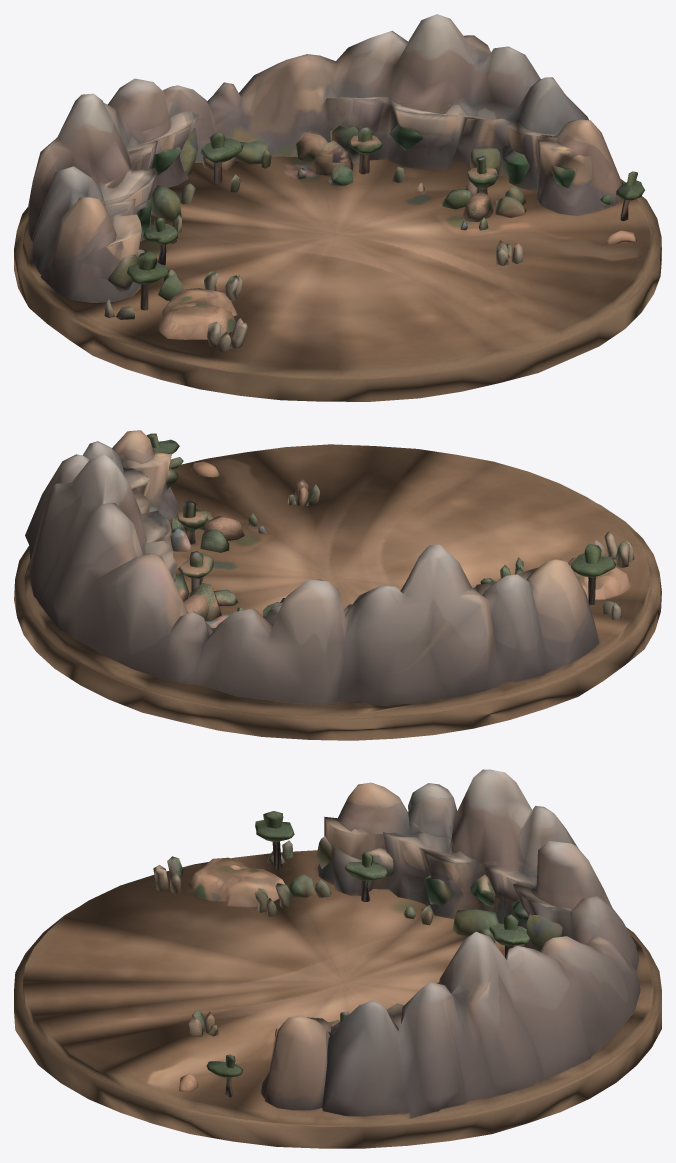
Rendered from diorama25.glb.
The picture shows the model from 3 angles, top to bottom: view 1: azimuth 30°, elevation 25°; view 2: azimuth 150°, elevation 25°; view 3: azimuth 270°, elevation 25°; orthographic projection.
Visible parts, largest first — view 1: mesh_node; view 2: mesh_node; view 3: mesh_node.
Boxes of the visible parts, left/top/right/bottom form: mesh_node: left=14, top=14, right=661, bottom=401; mesh_node: left=14, top=430, right=661, bottom=740; mesh_node: left=14, top=769, right=661, bottom=1148.
Bounding box in the file's own units: 0.9078 × 0.25 × 0.9078.
Materials: 1 (1 with a texture image).
